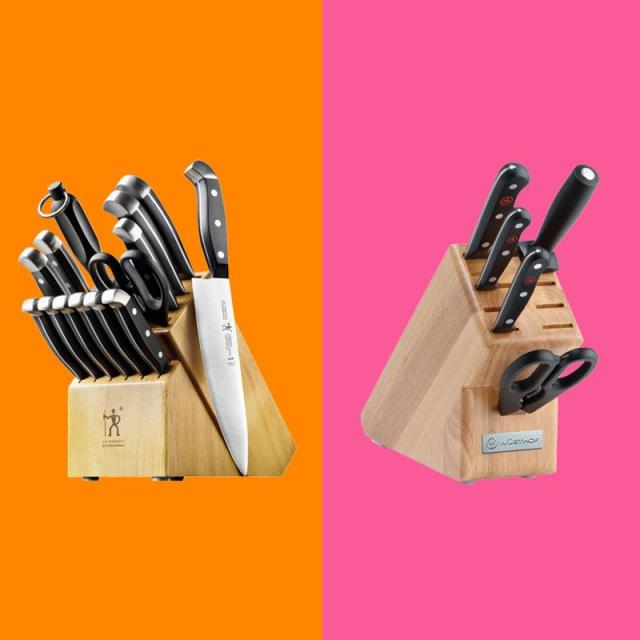Weapon: (166, 154, 262, 478)
